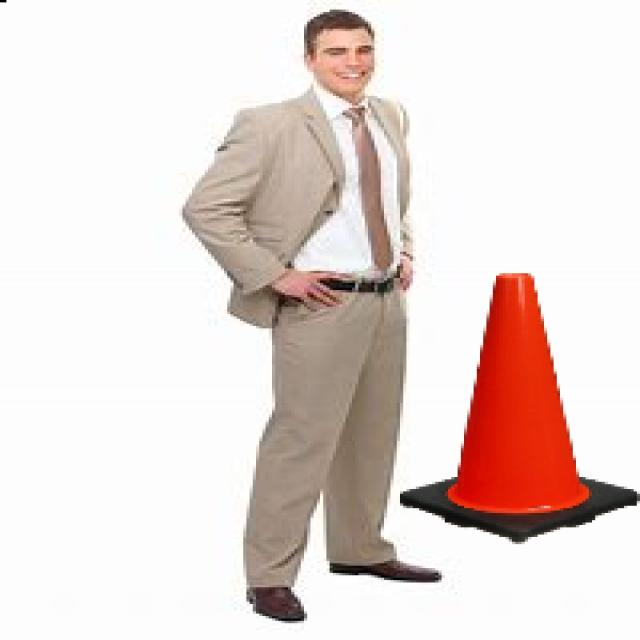traffic cone: (392, 269, 640, 547)
